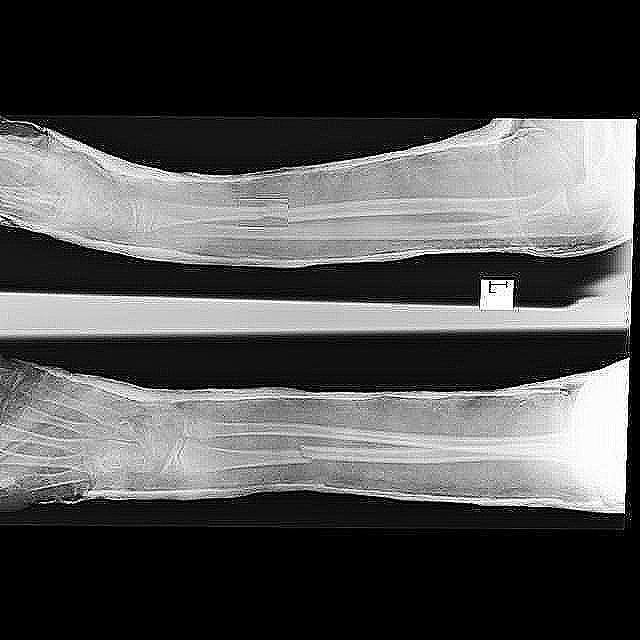bone: (280, 438, 332, 470), (238, 199, 288, 227)
